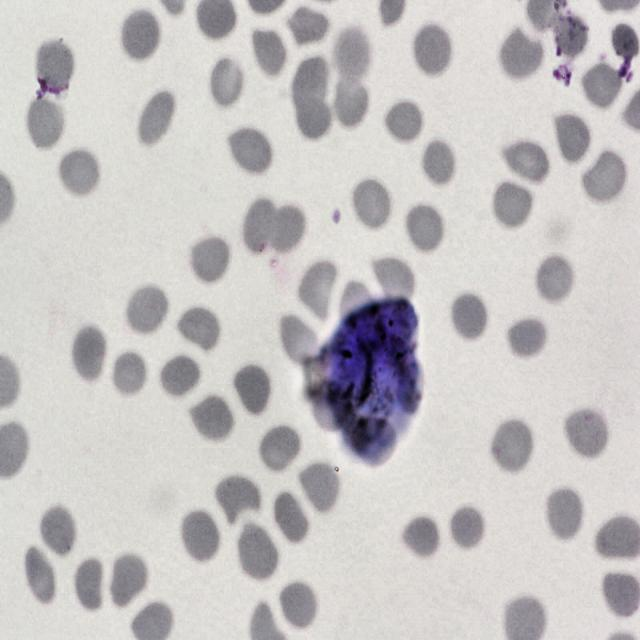red blood cell: (234, 520, 280, 583), (580, 147, 628, 207), (297, 459, 343, 517), (542, 482, 585, 543), (215, 470, 261, 527), (108, 550, 150, 612), (490, 415, 534, 474), (276, 311, 322, 367), (136, 86, 176, 150), (225, 124, 274, 176), (257, 420, 304, 474), (347, 172, 391, 229), (501, 138, 550, 189), (178, 508, 222, 564), (125, 282, 169, 338), (490, 178, 535, 232), (411, 22, 454, 78), (188, 393, 234, 445), (498, 26, 543, 79), (298, 262, 339, 320), (57, 146, 101, 200), (36, 36, 76, 95), (370, 254, 416, 305), (403, 201, 446, 255), (231, 362, 273, 417), (37, 503, 78, 559), (70, 324, 108, 384), (24, 99, 64, 155), (277, 580, 319, 633), (174, 305, 220, 353), (185, 234, 231, 282), (158, 353, 202, 402), (567, 408, 610, 458), (449, 291, 489, 344), (418, 137, 458, 190), (332, 71, 371, 125), (272, 490, 310, 545), (73, 556, 109, 614), (382, 98, 424, 147), (535, 254, 573, 308), (248, 27, 286, 81), (208, 56, 246, 109), (291, 56, 332, 105), (122, 10, 162, 60), (110, 350, 150, 400), (335, 26, 372, 80), (504, 316, 548, 360), (400, 514, 440, 562), (553, 113, 590, 164), (449, 501, 489, 548), (582, 62, 622, 109), (600, 572, 640, 617), (266, 206, 304, 252), (245, 198, 276, 254), (287, 6, 329, 47), (24, 547, 55, 602), (295, 96, 331, 141), (553, 17, 587, 59), (612, 22, 638, 61)
